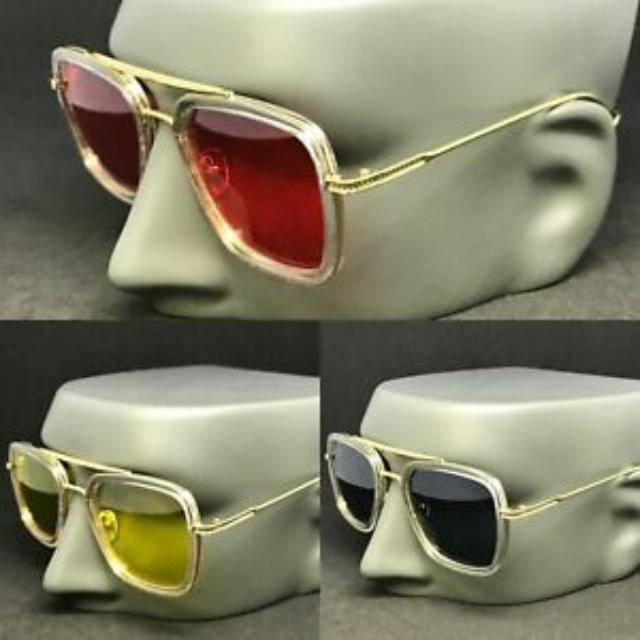sunglasses: (47, 43, 618, 283), (5, 440, 321, 596), (324, 427, 640, 578)
